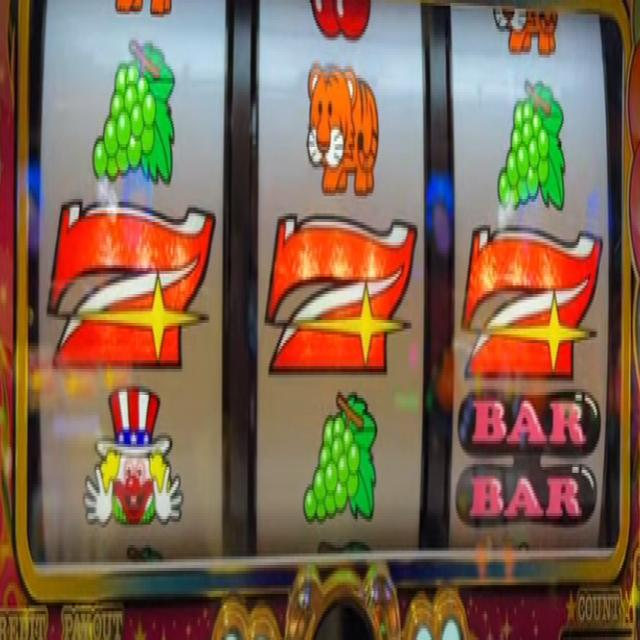bar: (455, 387, 600, 536)
cherry: (310, 0, 374, 49)
clown: (82, 382, 183, 540)
display: (27, 0, 626, 564)
grape: (92, 35, 177, 187), (303, 388, 379, 532), (497, 74, 567, 214)
tiger: (304, 61, 380, 197), (492, 5, 559, 59), (114, 0, 173, 19)
z: (46, 194, 217, 378), (264, 209, 417, 381), (461, 222, 604, 380)
